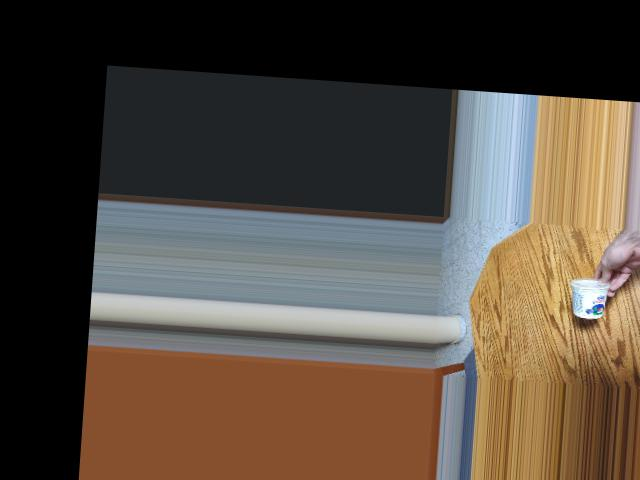cotage: (564, 276, 612, 317)
